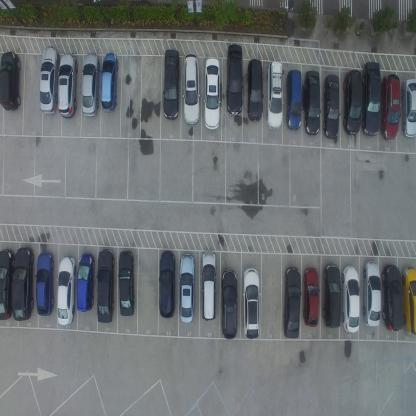car: (11, 246, 34, 321), (381, 263, 404, 331), (362, 59, 382, 137), (39, 46, 60, 116), (56, 254, 77, 324), (202, 57, 221, 131), (242, 267, 261, 341), (96, 247, 114, 324), (0, 50, 22, 113), (340, 264, 360, 333), (58, 51, 78, 119), (344, 67, 363, 138), (382, 72, 401, 143), (282, 264, 300, 338), (182, 53, 200, 126), (162, 48, 180, 121), (362, 260, 381, 328), (226, 44, 243, 118), (266, 58, 283, 130), (221, 268, 238, 340), (178, 253, 195, 324), (322, 264, 340, 331), (305, 66, 322, 136), (100, 51, 119, 113), (119, 248, 136, 317), (35, 252, 53, 317), (0, 245, 15, 322), (82, 53, 100, 117), (158, 249, 174, 320), (246, 57, 263, 123), (400, 266, 416, 336), (201, 249, 216, 322), (286, 67, 303, 131), (76, 252, 94, 312), (324, 74, 340, 140), (302, 267, 319, 329), (401, 78, 416, 137)
